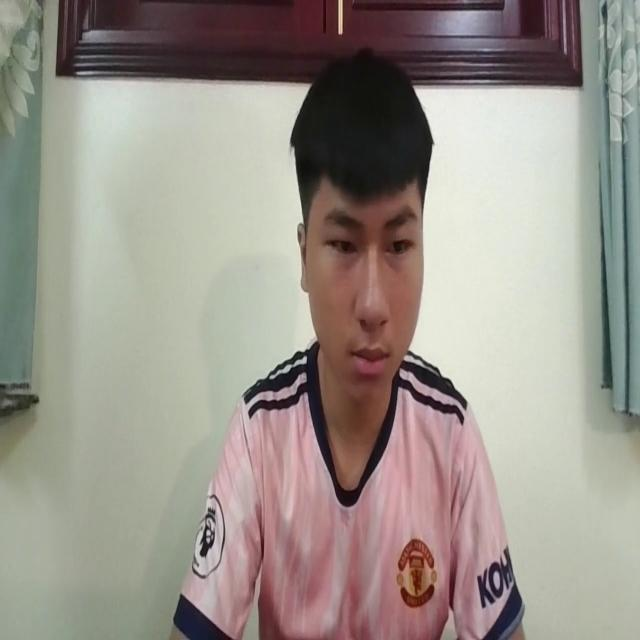student: (165, 48, 523, 640)
